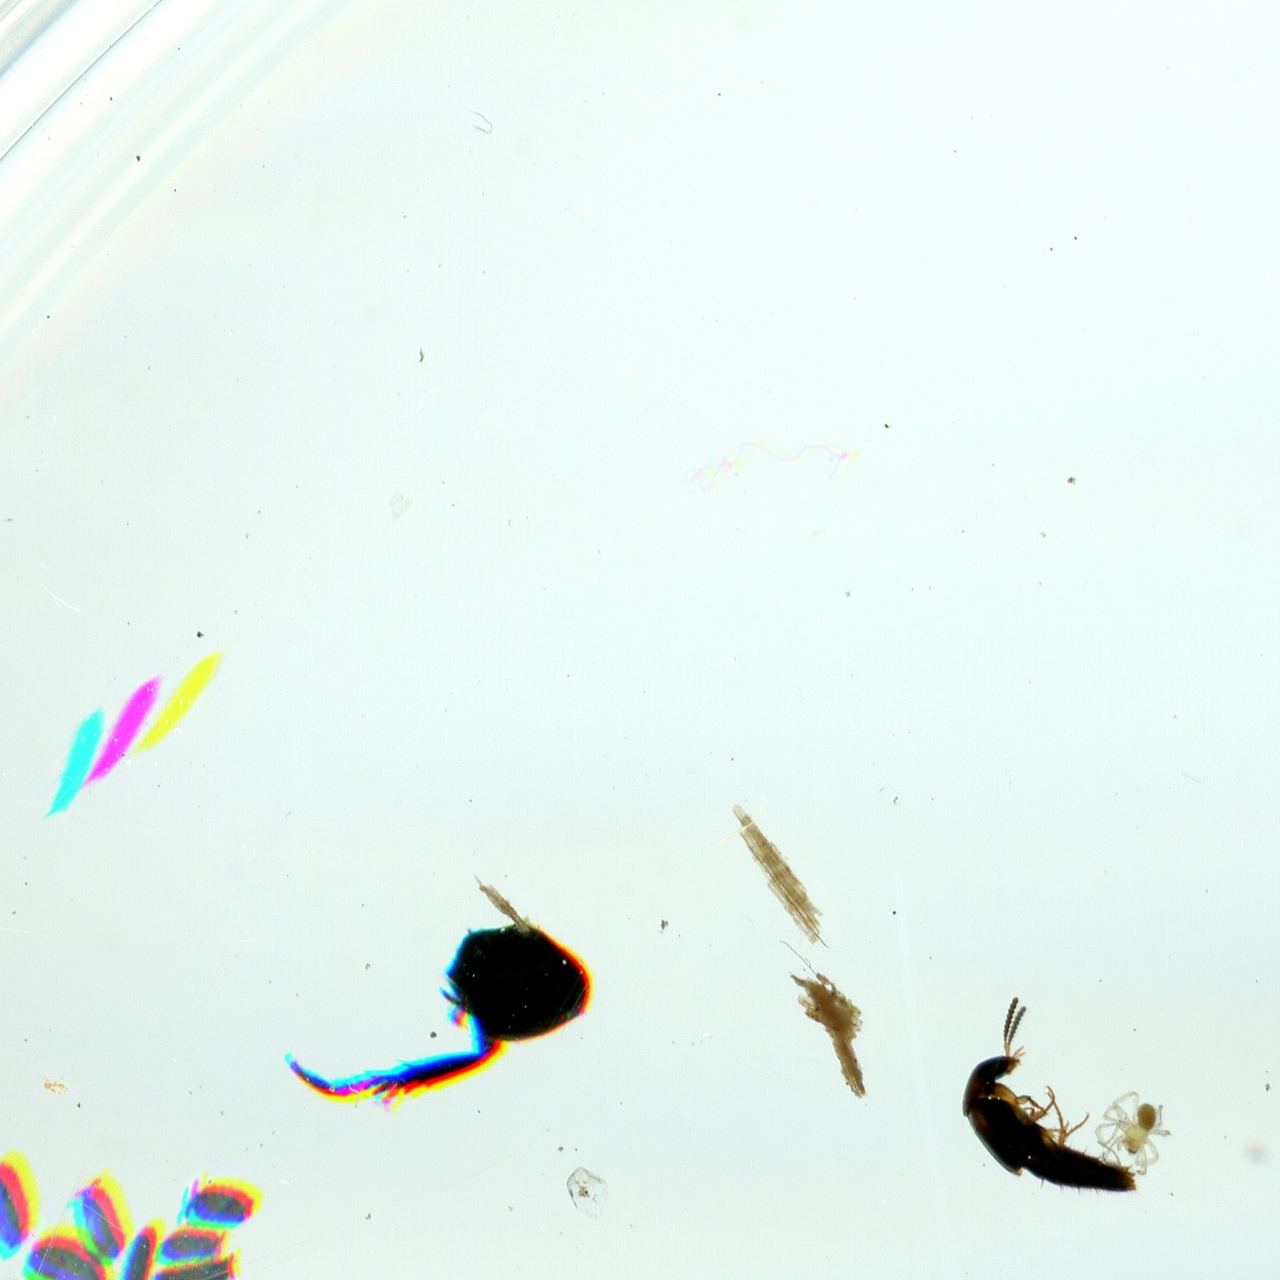arthropod: (917, 985, 1148, 1253), (1091, 1085, 1173, 1179), (63, 1171, 137, 1266), (21, 1220, 128, 1280), (0, 1151, 49, 1254), (181, 1179, 253, 1227), (151, 1254, 241, 1280), (157, 1227, 223, 1262), (125, 1211, 155, 1280), (0, 1267, 104, 1280)
